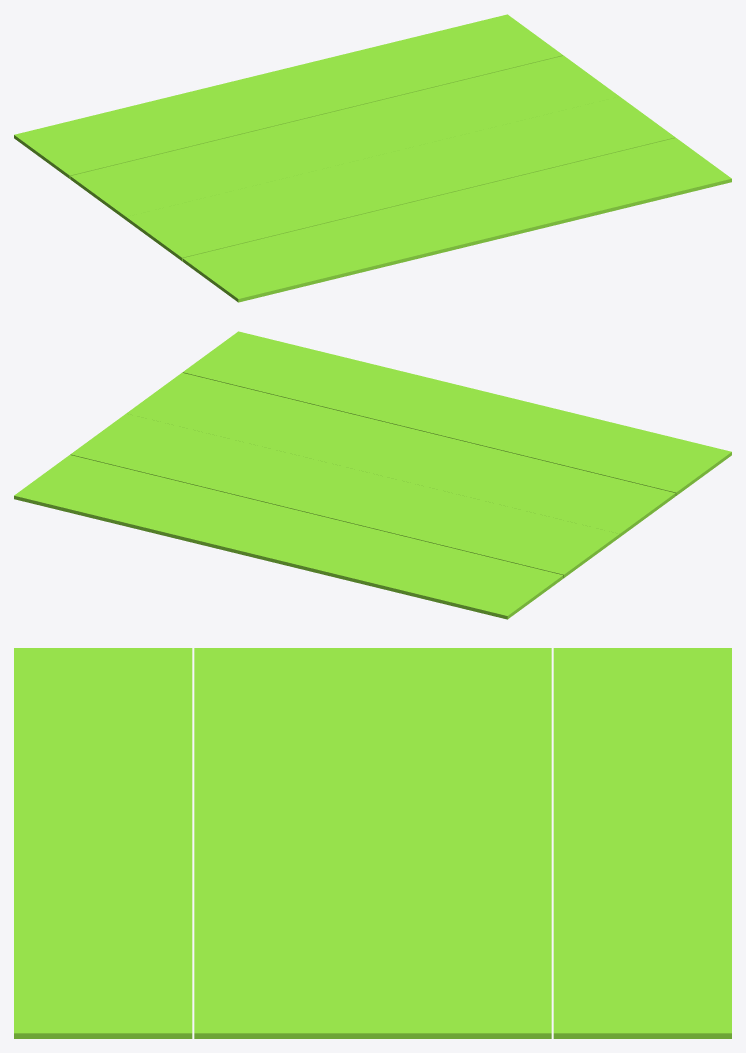
Rendered from map.obj.
3 renders of one model, top to bottom at view 1: azimuth 30°, elevation 25°; view 2: azimuth 150°, elevation 25°; view 3: azimuth 270°, elevation 25°, orthographic. The views are drawn at different scales.
Visible parts, largest first — view 1: Cube.003_Cube.015, Cube.004, Cube.001_Cube.013, Cube.006_Cube.017, Cube.007_Cube.018, Cube.008_Cube.019, Cube.012_Cube.023, Cube.015_Cube.026, Cube.002_Cube.014, Cube.000_Cube.012, Cube.013_Cube.024, Cube.010_Cube.021 (+4 smaller); view 2: Cube.008_Cube.019, Cube.015_Cube.026, Cube.013_Cube.024, Cube.010_Cube.021, Cube.012_Cube.023, Cube.003_Cube.015, Cube.007_Cube.018, Cube.014_Cube.025, Cube.004, Cube.006_Cube.017, Cube.011_Cube.022, Cube.001_Cube.013 (+4 smaller); view 3: Cube.002_Cube.014, Cube.001_Cube.013, Cube.014_Cube.025, Cube.013_Cube.024, Cube.000_Cube.012, Cube.011_Cube.022, Cube.004, Cube.015_Cube.026, Cube.007_Cube.018, Cube.012_Cube.023, Cube.003_Cube.015, Cube.008_Cube.019 (+4 smaller).
Boxes of the visible parts, left/top/right/bottom form: Cube.003_Cube.015: left=182, top=228, right=362, bottom=302; Cube.004: left=429, top=168, right=608, bottom=242; Cube.001_Cube.013: left=552, top=138, right=731, bottom=211; Cube.006_Cube.017: left=306, top=198, right=484, bottom=272; Cube.007_Cube.018: left=126, top=187, right=305, bottom=261; Cube.008_Cube.019: left=14, top=105, right=192, bottom=178; Cube.012_Cube.023: left=70, top=146, right=249, bottom=219; Cube.015_Cube.026: left=261, top=44, right=440, bottom=115; Cube.002_Cube.014: left=496, top=96, right=675, bottom=167; Cube.000_Cube.012: left=373, top=126, right=551, bottom=197; Cube.013_Cube.024: left=384, top=14, right=563, bottom=85; Cube.010_Cube.021: left=137, top=74, right=316, bottom=145; Cube.008_Cube.019: left=383, top=545, right=563, bottom=619; Cube.015_Cube.026: left=137, top=485, right=316, bottom=559; Cube.013_Cube.024: left=14, top=455, right=193, bottom=528; Cube.010_Cube.021: left=260, top=515, right=439, bottom=589; Cube.012_Cube.023: left=441, top=504, right=619, bottom=578; Cube.003_Cube.015: left=552, top=421, right=731, bottom=495; Cube.007_Cube.018: left=496, top=463, right=675, bottom=536; Cube.014_Cube.025: left=70, top=413, right=249, bottom=484; Cube.004: left=305, top=361, right=484, bottom=432; Cube.006_Cube.017: left=429, top=391, right=607, bottom=462; Cube.011_Cube.022: left=193, top=443, right=372, bottom=515; Cube.001_Cube.013: left=182, top=331, right=360, bottom=402; Cube.002_Cube.014: left=194, top=937, right=372, bottom=1038; Cube.001_Cube.013: left=14, top=937, right=192, bottom=1038; Cube.014_Cube.025: left=373, top=937, right=551, bottom=1038; Cube.013_Cube.024: left=553, top=937, right=731, bottom=1038; Cube.000_Cube.012: left=194, top=840, right=372, bottom=937; Cube.011_Cube.022: left=373, top=840, right=551, bottom=937; Cube.004: left=14, top=840, right=192, bottom=937; Cube.015_Cube.026: left=553, top=840, right=731, bottom=937; Cube.007_Cube.018: left=194, top=648, right=372, bottom=744; Cube.012_Cube.023: left=373, top=648, right=551, bottom=744; Cube.003_Cube.015: left=14, top=648, right=192, bottom=744; Cube.008_Cube.019: left=553, top=648, right=731, bottom=744.
Size of the model in its own units: 42.13 by 0.2872 by 33.18.
Materials: 1 (1 with a texture image).
